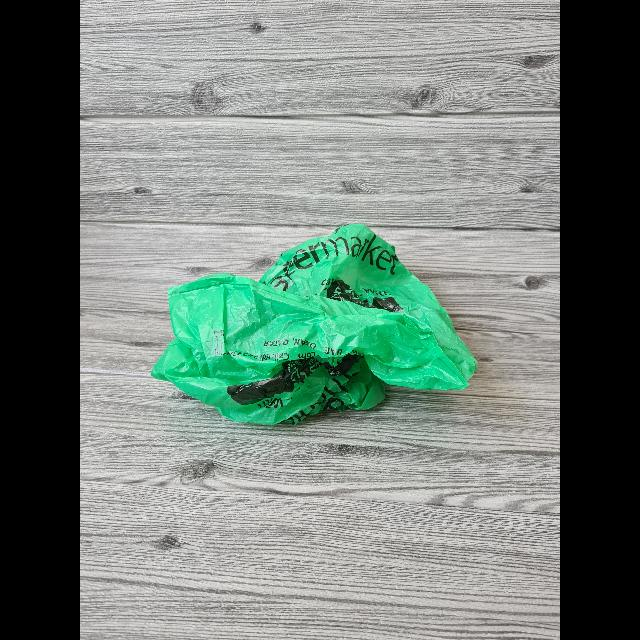plastic_bag: (144, 209, 480, 439)
